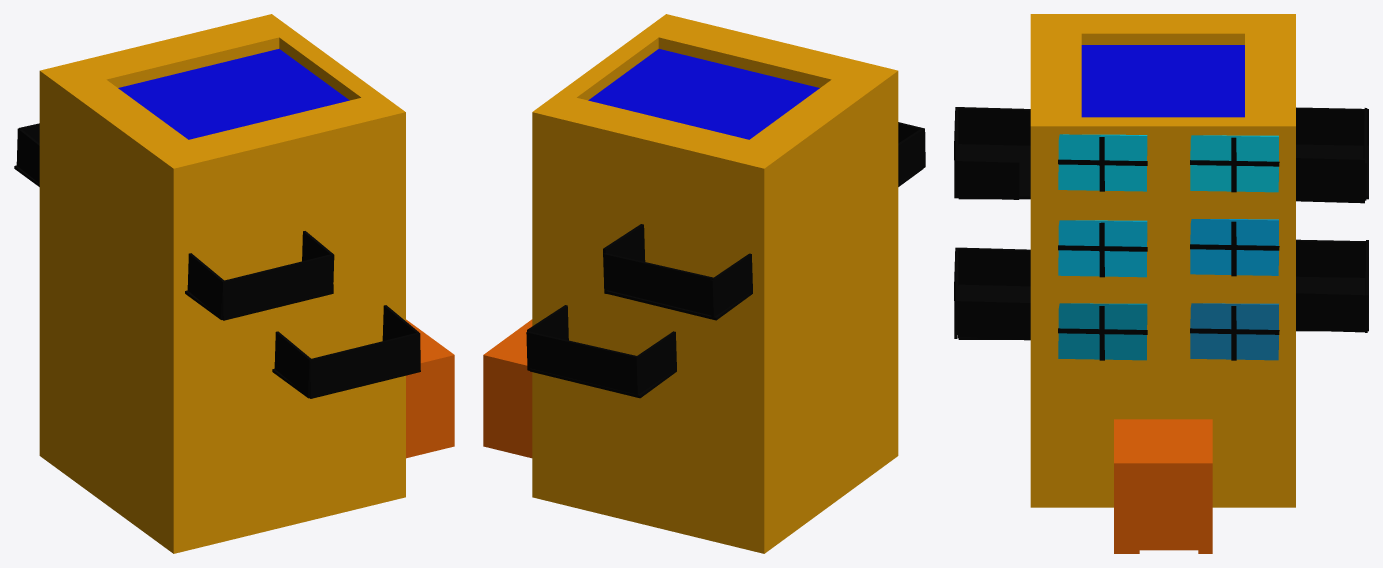
Rendered from Flamingo.glb.
3 renders of one model, left to right at view 1: azimuth 30°, elevation 25°; view 2: azimuth 150°, elevation 25°; view 3: azimuth 270°, elevation 25°, orthographic.
Parts seen in each view (by area): view 1: Cube.028; view 2: Cube.028; view 3: Cube.028.
Part boxes in pixels (x1,y1,x2,y2): Cube.028: (14,14,454,553); Cube.028: (483,14,925,553); Cube.028: (954,14,1368,553).
Bounding box in the file's own units: 11.92 × 13.65 × 13.38.
